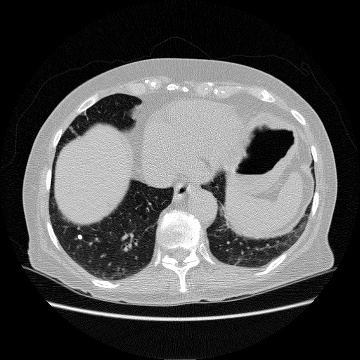PN: (77, 235, 81, 239)
